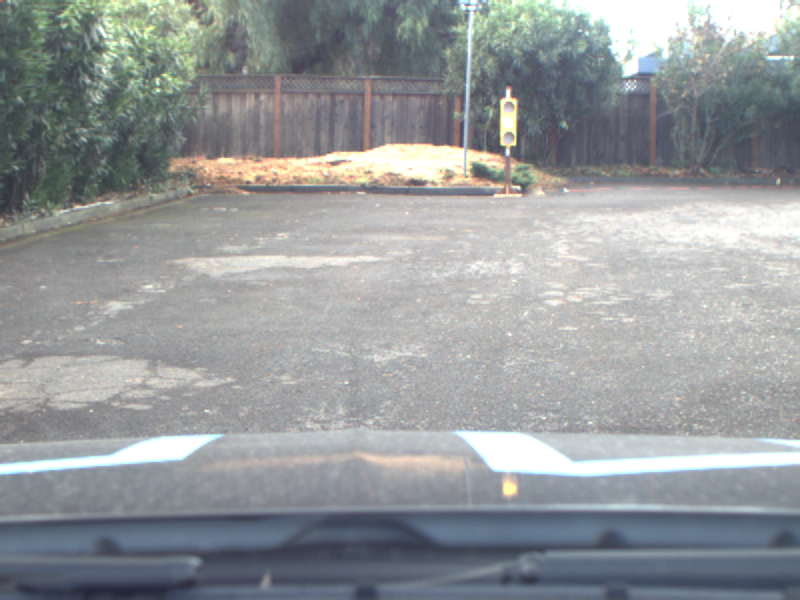Yellow: (500, 98, 517, 146)
